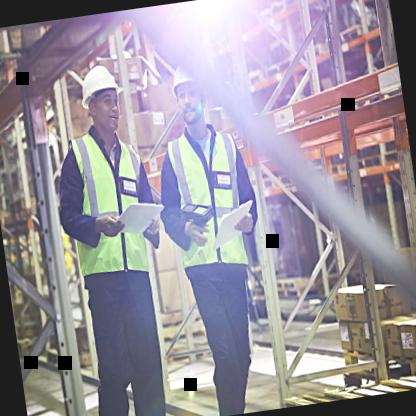helmet: (78, 63, 125, 134), (167, 58, 212, 130)
